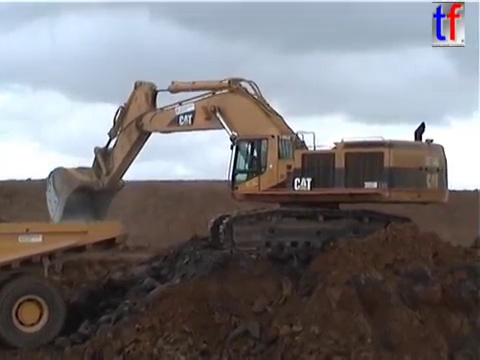excavator: (42, 74, 451, 263)
truck: (1, 218, 124, 351)
